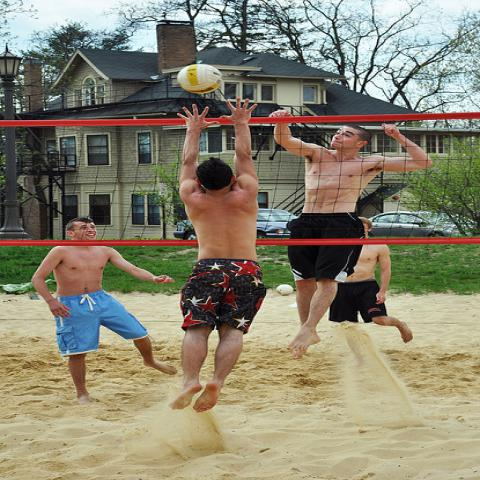car: (172, 208, 299, 240), (367, 212, 454, 237)
